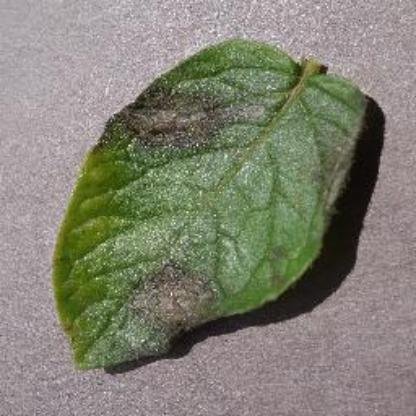Late-Blight: (38, 32, 380, 390)
